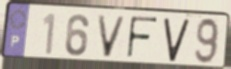1: (42, 12, 57, 56)
6: (64, 13, 91, 58)
9: (193, 17, 221, 67)
F: (125, 14, 160, 61)
V: (95, 14, 128, 59), (162, 17, 192, 63)
